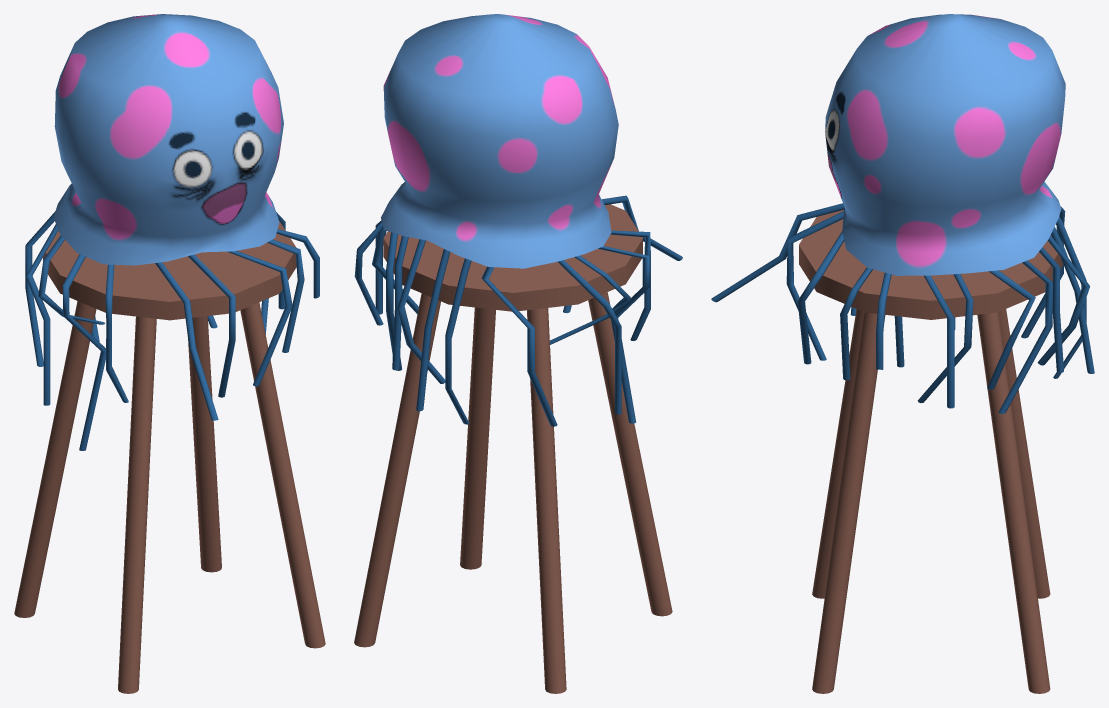
File: jellyfish1.fbx
3 views of the same model, side by side, from view 1: azimuth 30°, elevation 25°; view 2: azimuth 150°, elevation 25°; view 3: azimuth 270°, elevation 25° (orthographic). The views are drawn at different scales.
Visible parts, largest first — view 1: pCylinder32, pCylinder33; view 2: pCylinder32, pCylinder33; view 3: pCylinder32, pCylinder33.
Part boxes in pixels (x1,y1,x2,y2): pCylinder32: [25, 14, 319, 450]; pCylinder33: [14, 221, 325, 693]; pCylinder32: [354, 14, 682, 426]; pCylinder33: [354, 204, 672, 693]; pCylinder32: [711, 14, 1094, 413]; pCylinder33: [799, 210, 1063, 693].
Bounding box in the file's own units: 56.46 × 130 × 72.41.
Materials: 2 (1 with a texture image).
